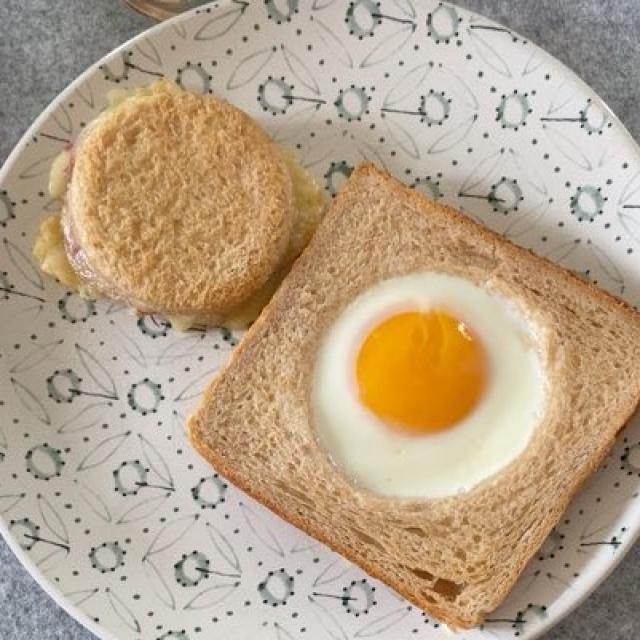bread: (63, 89, 633, 636)
egg: (311, 275, 556, 516)
